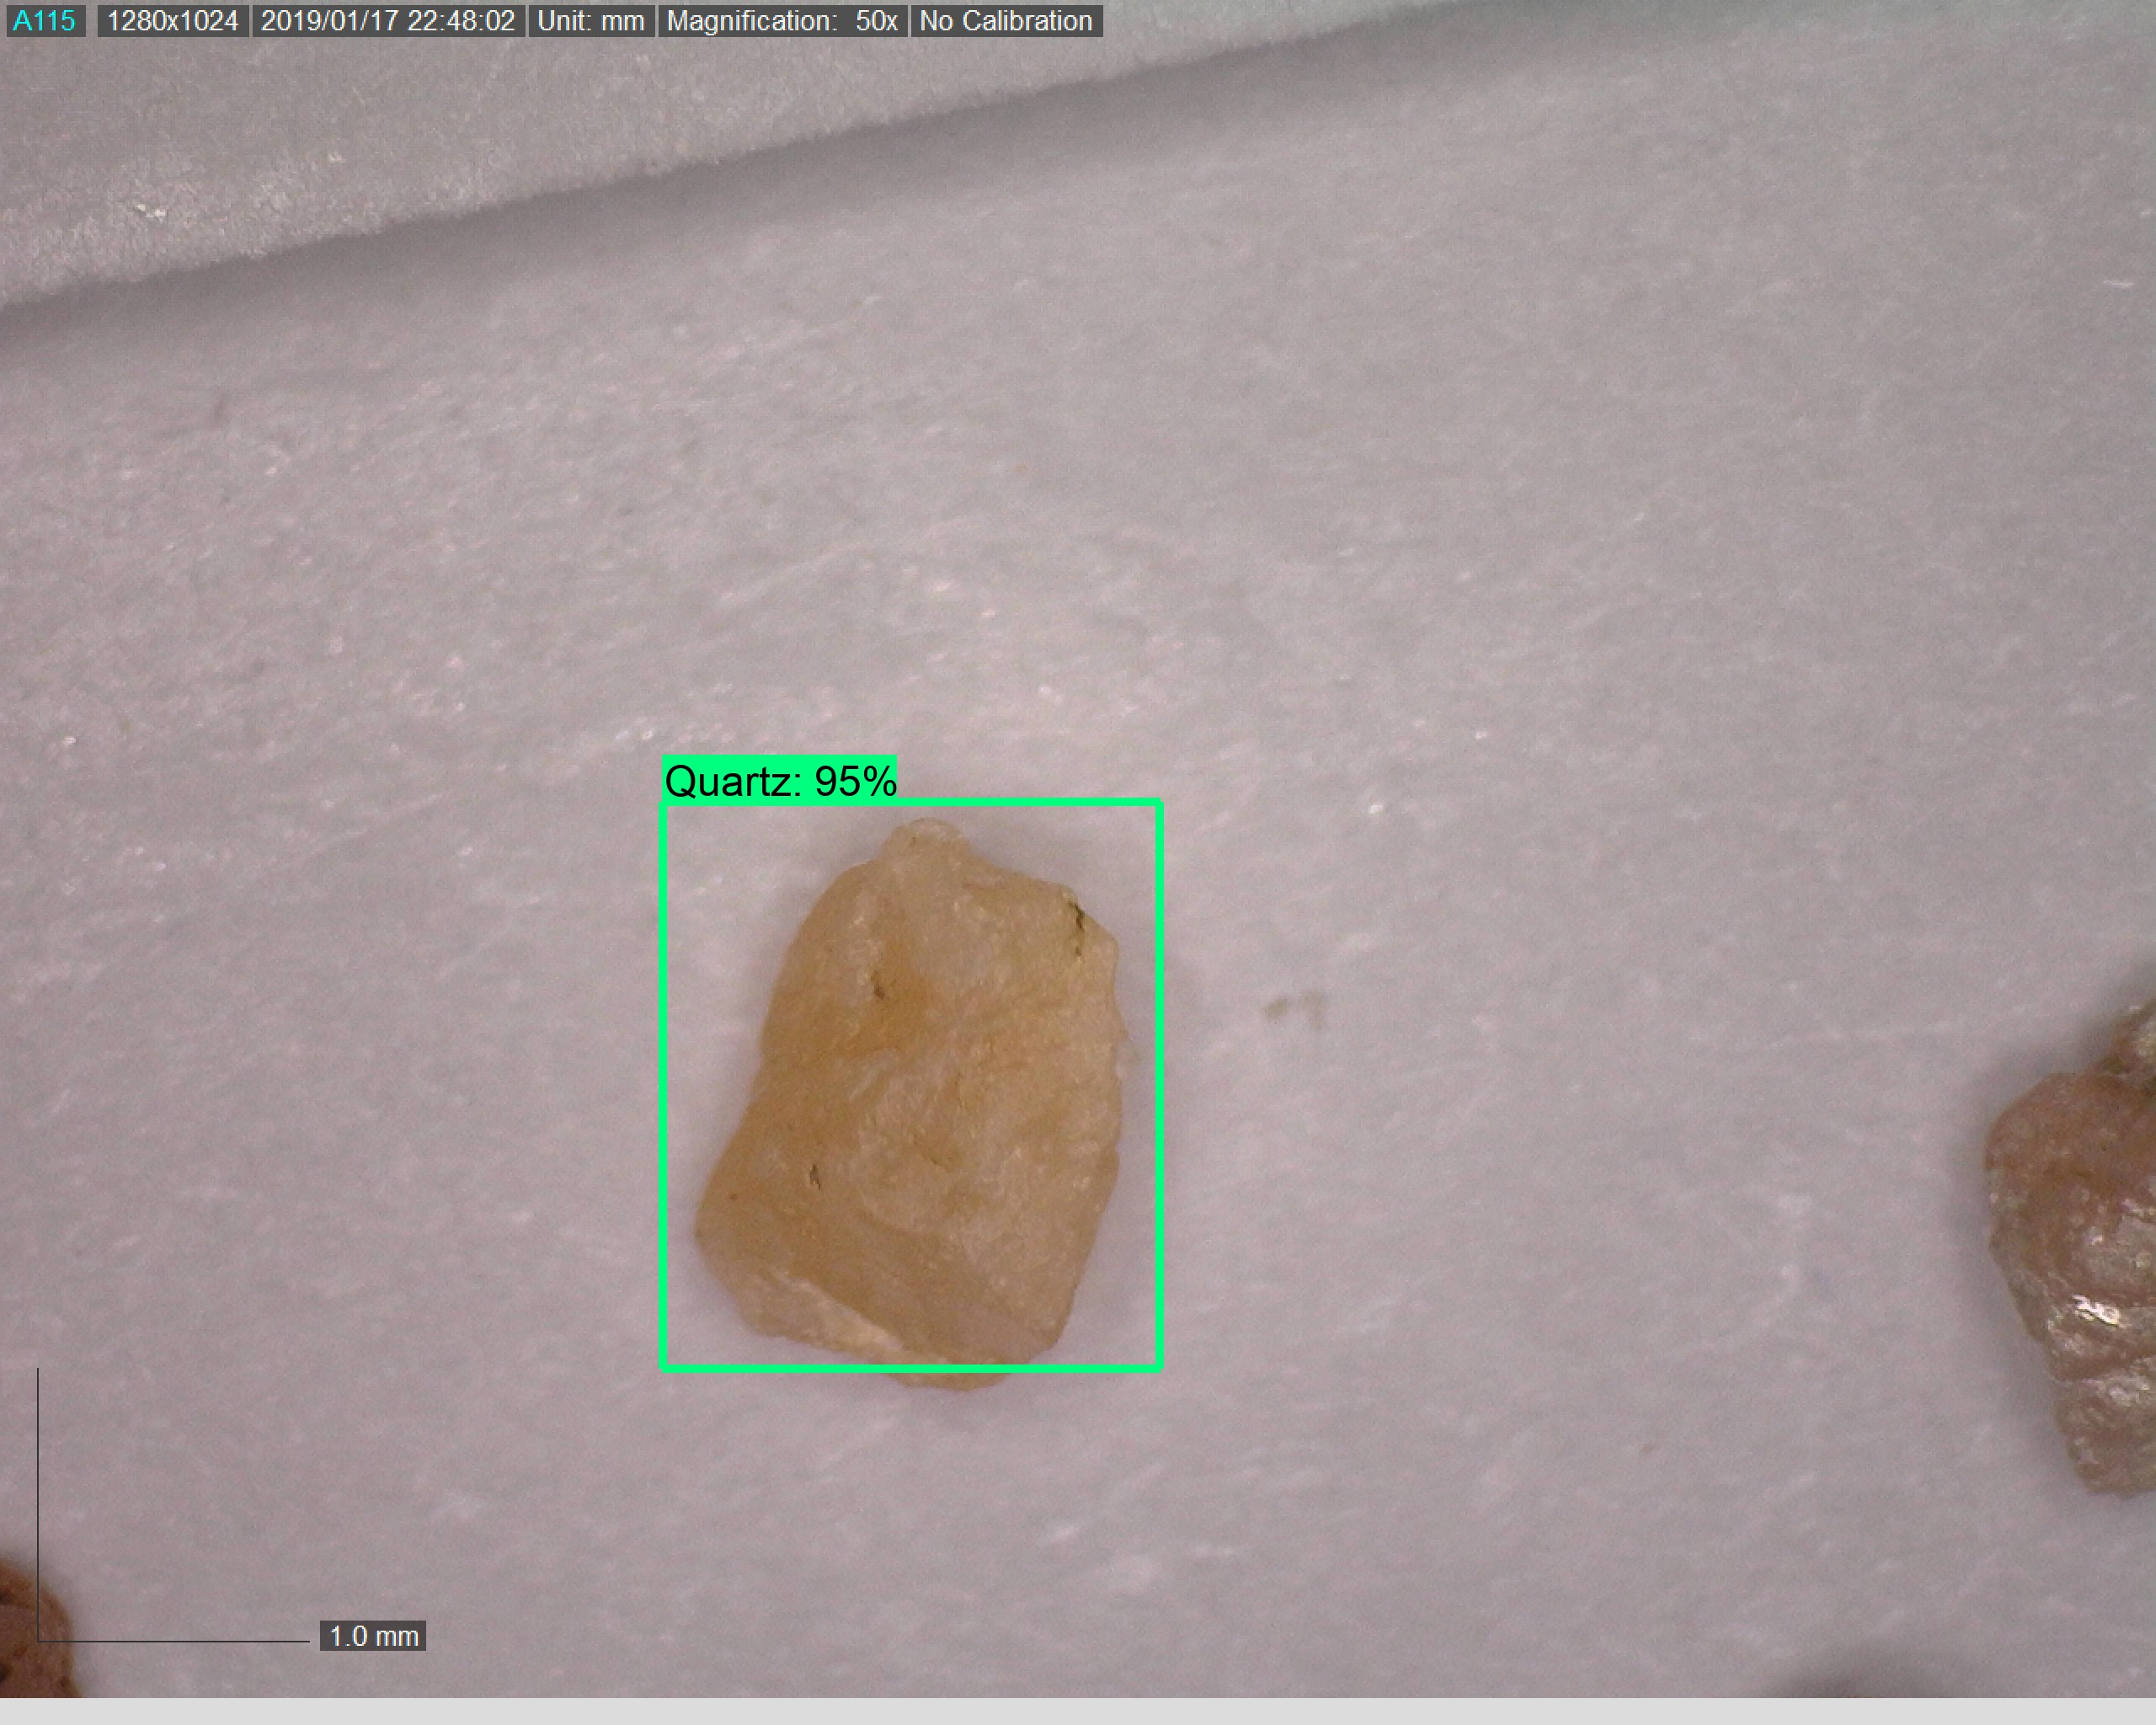Quartz: (662, 808, 1128, 1406)
